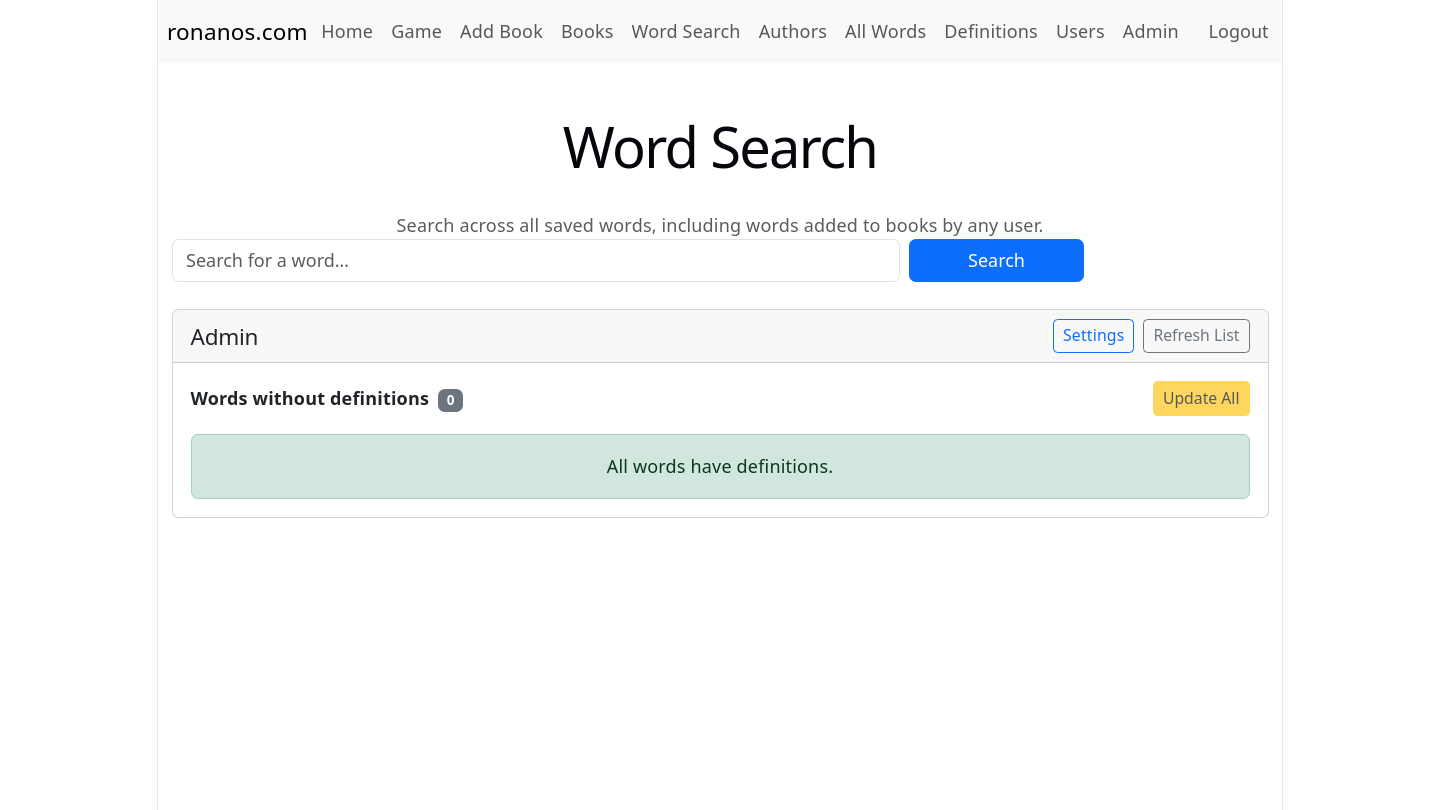
Test: WordSearch › shows results after search
Type "ephemeral" into the field with placeholder "Search for a word…" at (536, 260), box [172,239,900,282]
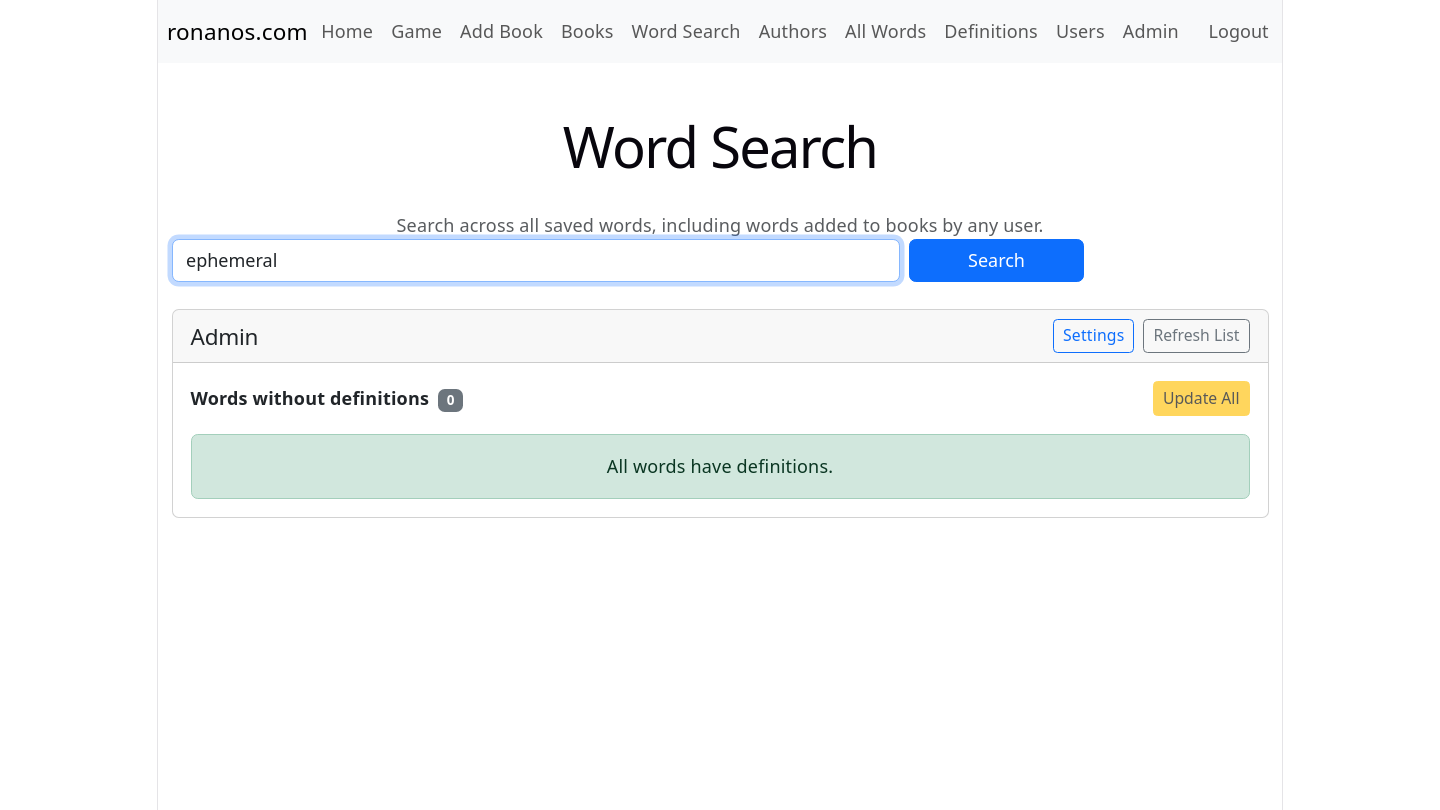
Click the button "Search" at (996, 260), box [909,239,1084,282]
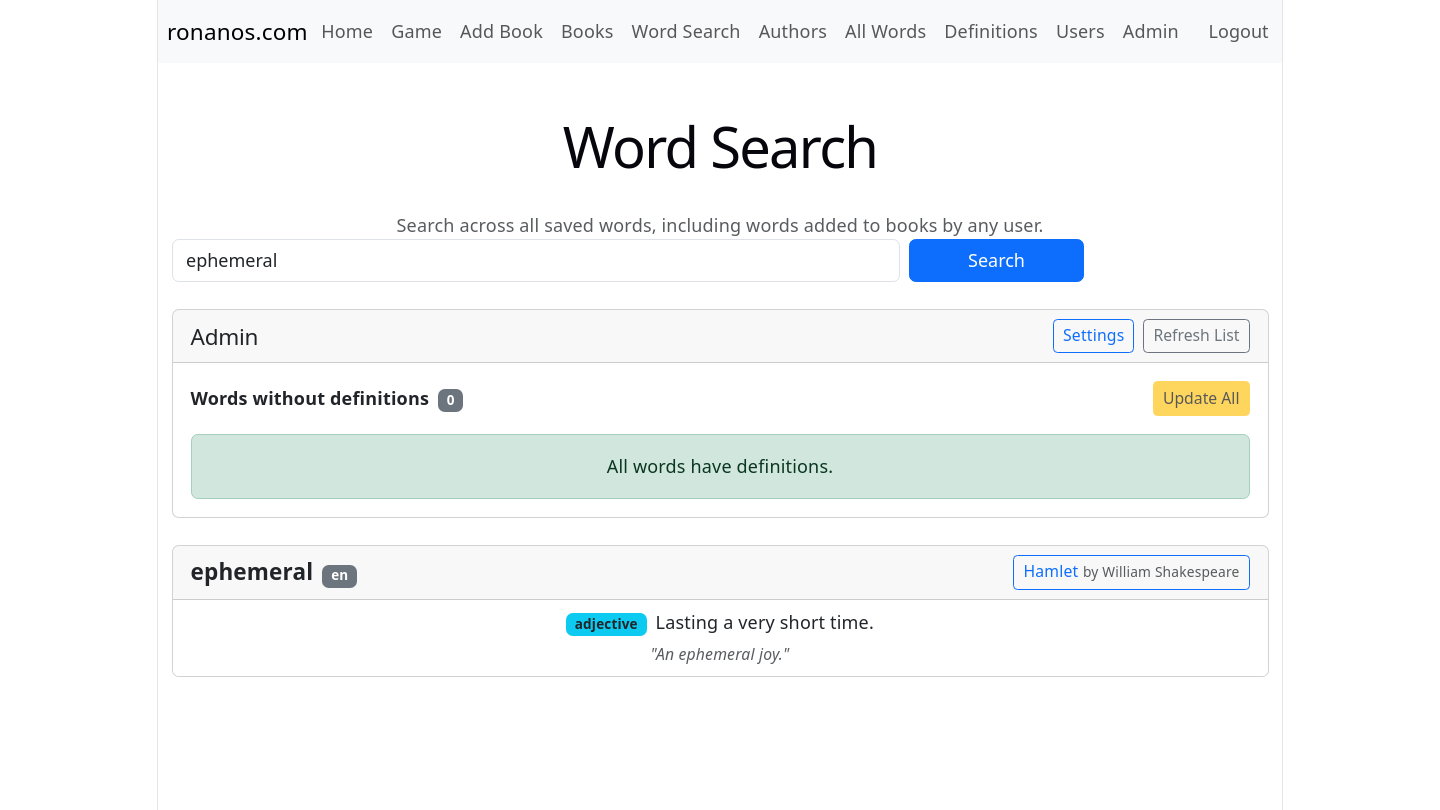
expect the text "ephemeral" is shown: met, box [190,556,313,587]
expect the list item "Lasting a very short time." is shown: met, box [656,610,874,634]
expect the text "\"An ephemeral joy.\"" is shown: met, box [651,643,789,665]
